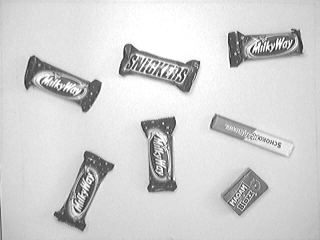Maoam: (220, 166, 270, 217)
Milkyway: (21, 53, 105, 117), (51, 149, 115, 233), (225, 25, 307, 71), (140, 115, 180, 194)
Riegel: (208, 111, 298, 159)
Snickers: (118, 42, 204, 96)
